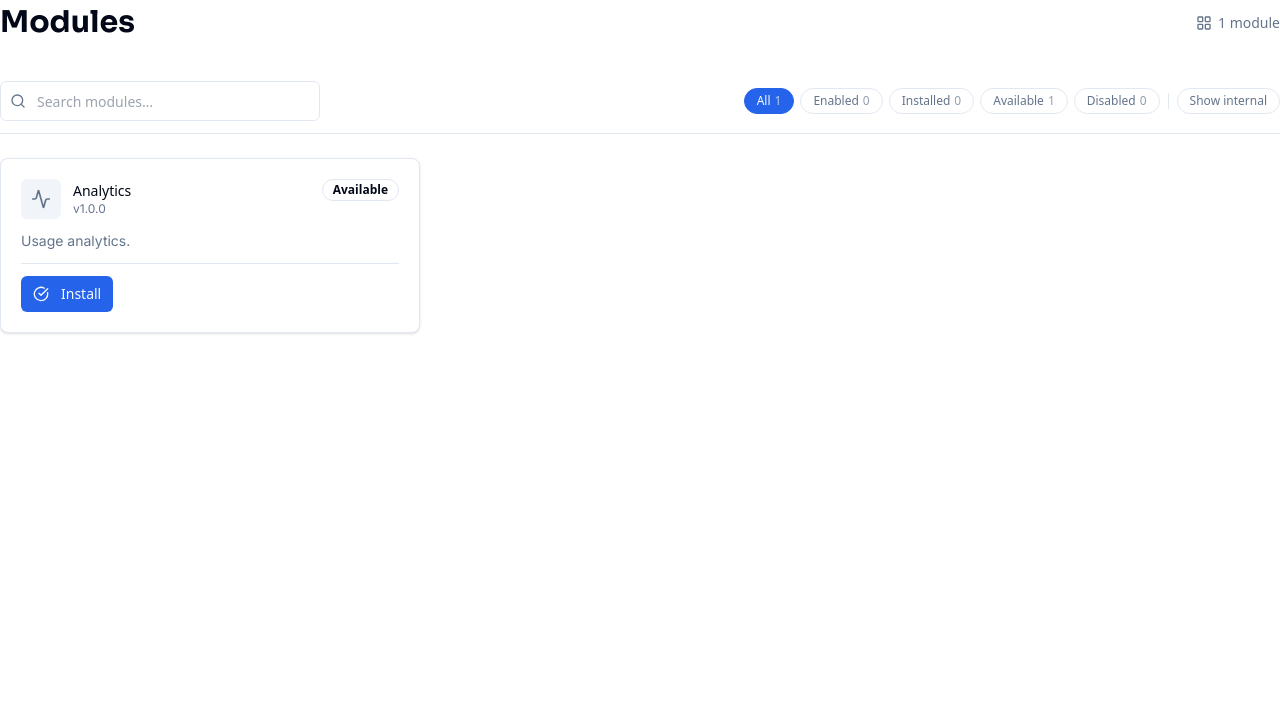
ModulesPage — 409 MODULE_CONFLICT handling › reopens the switch dialog pre-filled when a 409 MODULE_CONFLICT with details arrives
The width and height of the screenshot is (1280, 720).
Expected: the text "Analytics" is shown, top-left (73, 181), bottom-right (131, 201)
// Click Install on the plain module (no pre-existing conflicts → goes to regular confirm)
Click the button "Install": (67, 294) top-left (21, 276), bottom-right (113, 312)
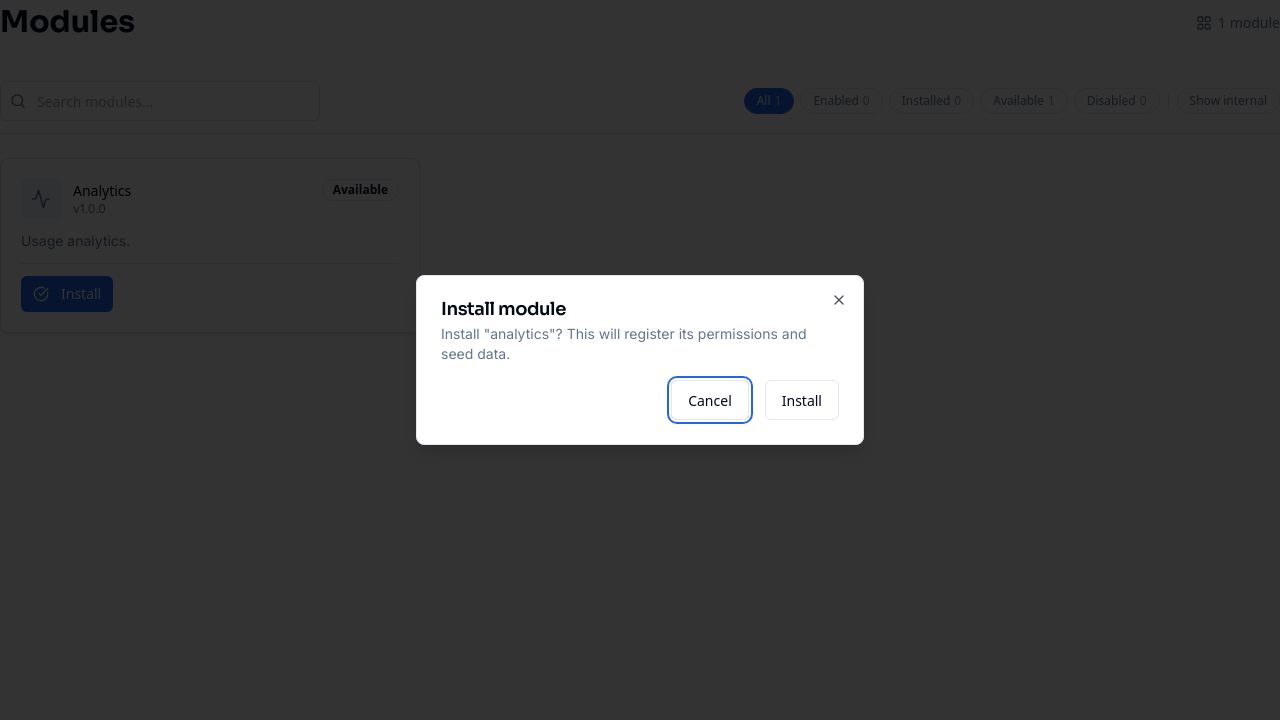
// Confirm the regular dialog — get the last button (the confirm action)
Click the button "Install": (802, 400) top-left (765, 380), bottom-right (839, 420)
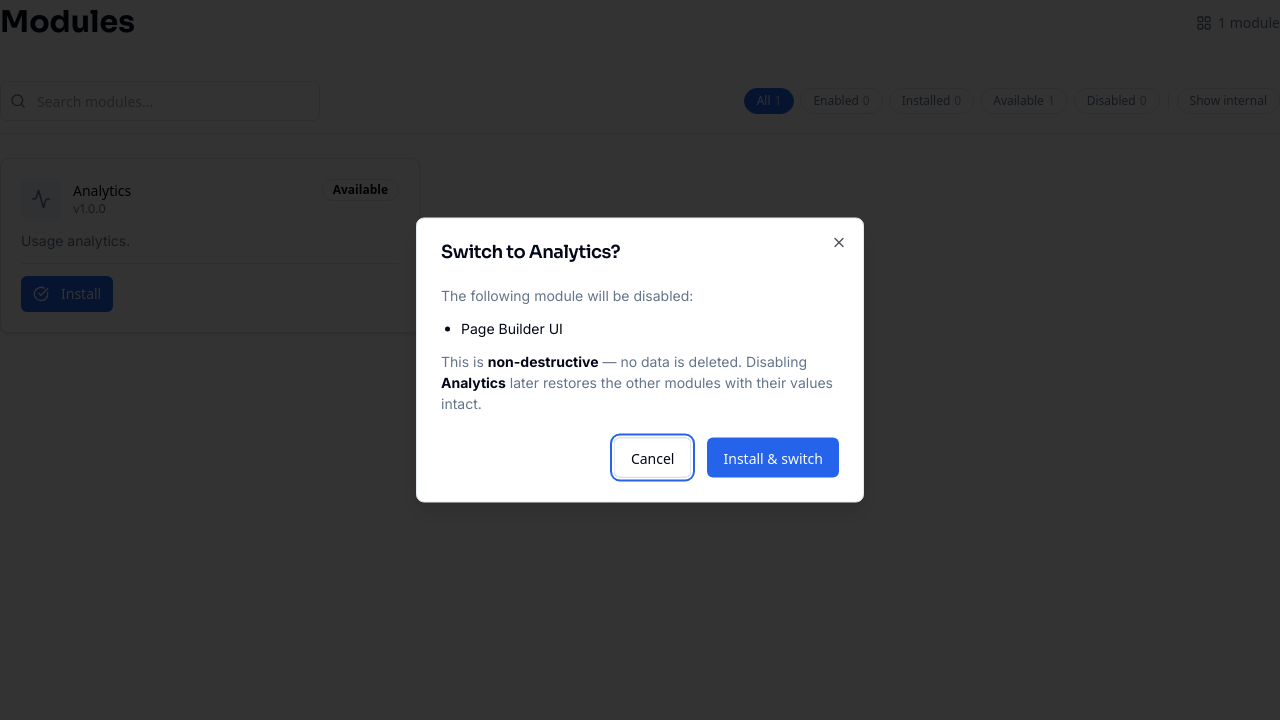
Expected: the dialog is shown, top-left (416, 218), bottom-right (864, 502)
Expected: the list item "Page Builder UI" is shown, top-left (461, 320), bottom-right (563, 336)
